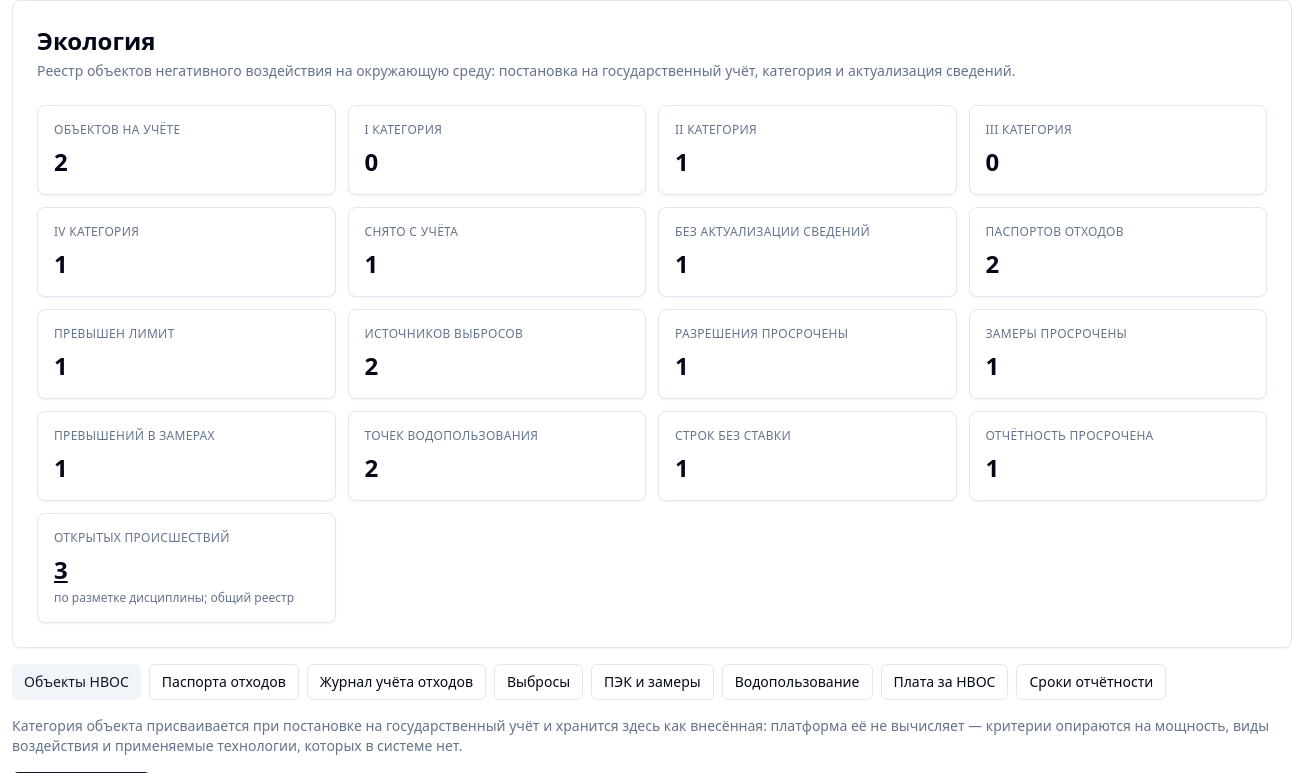
Scenario: EcologyPage › паспорта отходов открываются второй секцией
The width and height of the screenshot is (1292, 773).
Click the button "Паспорта отходов". click: (224, 682)
box: left=149, top=664, right=299, bottom=700
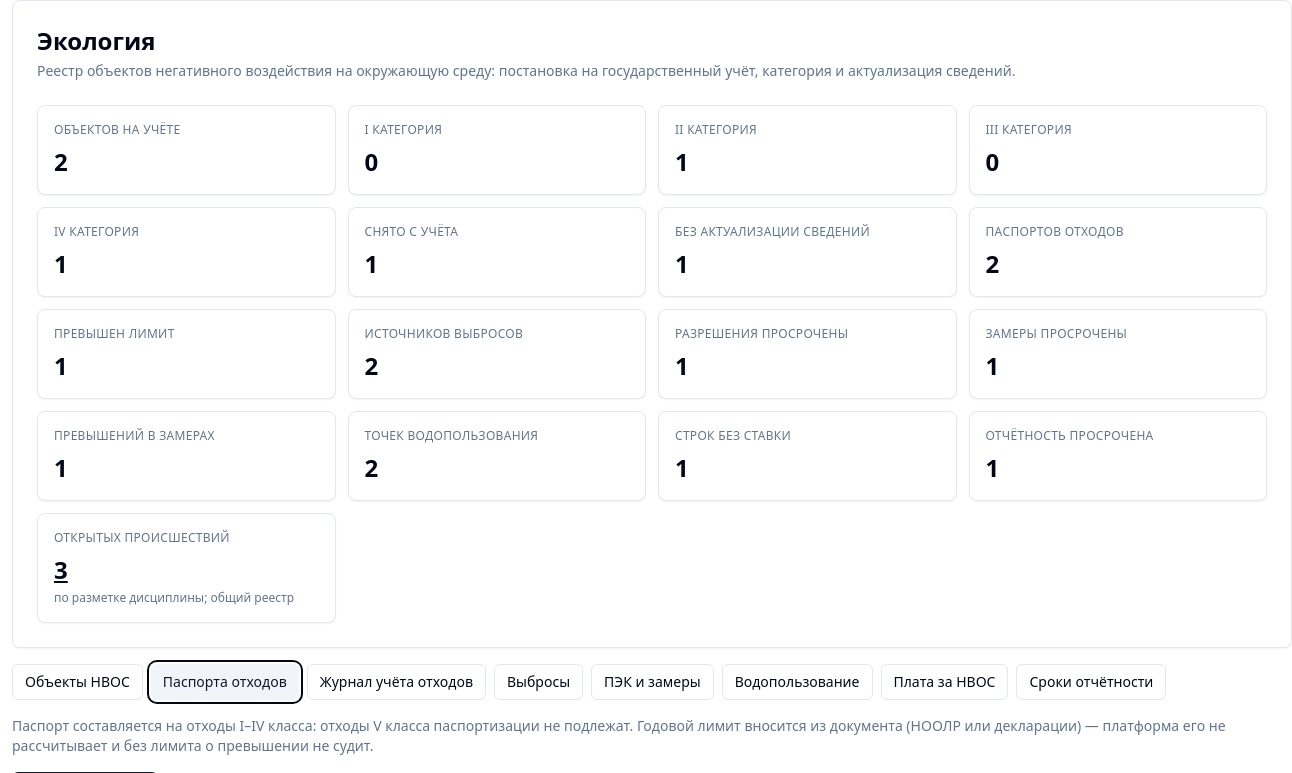
Check: the text "платформа его не рассчитывает" is shown, box left=12, top=716, right=1226, bottom=755
